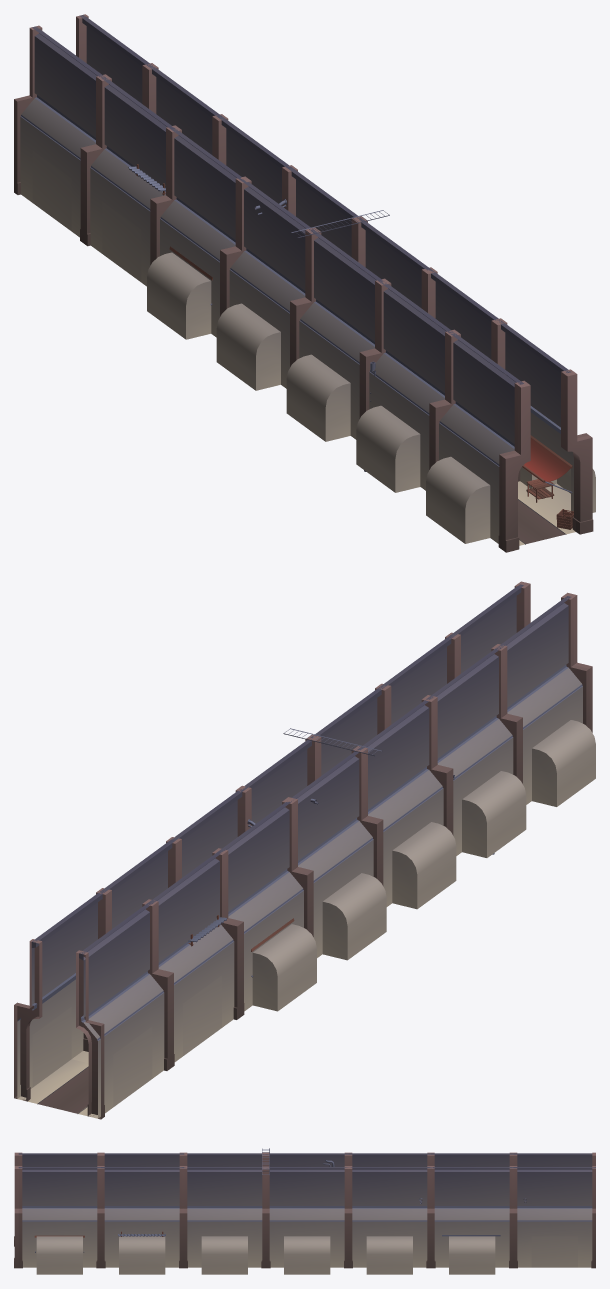
Rendered from Market.fbx.
The picture shows the model from 3 angles, top to bottom: view 1: azimuth 30°, elevation 25°; view 2: azimuth 150°, elevation 25°; view 3: azimuth 270°, elevation 25°; orthographic projection. The views are drawn at different scales.
Visible parts, largest first — view 1: LargehallMarket.001; view 2: LargehallMarket.001; view 3: LargehallMarket.001.
Boxes of the visible parts, x1,y1,x2,y2 form: LargehallMarket.001: (14,14,595,552); LargehallMarket.001: (14,581,595,1119); LargehallMarket.001: (14,1148,595,1274).
Size of the model in its own units: 8.75 by 10.45 by 57.08.
